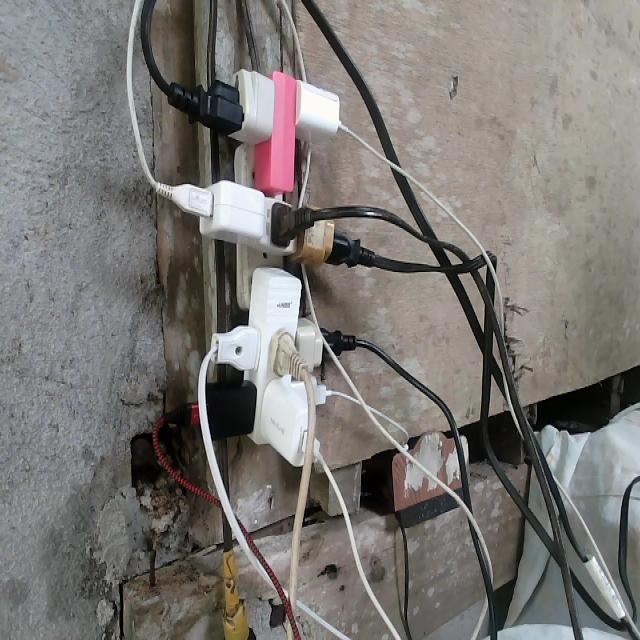-: (170, 64, 358, 476)
